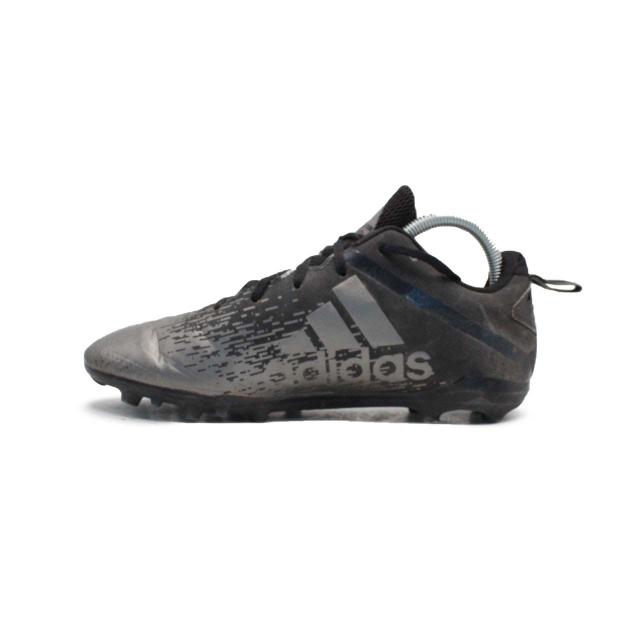heel: (491, 251, 580, 379)
midsole: (87, 362, 530, 426)
uppersole: (88, 183, 494, 394)
